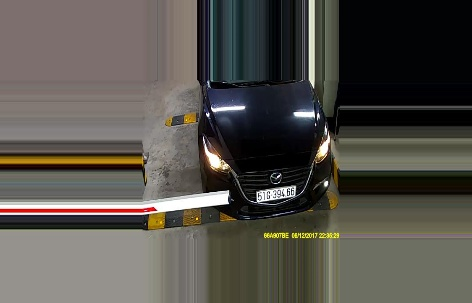plate: (255, 186, 297, 201)
